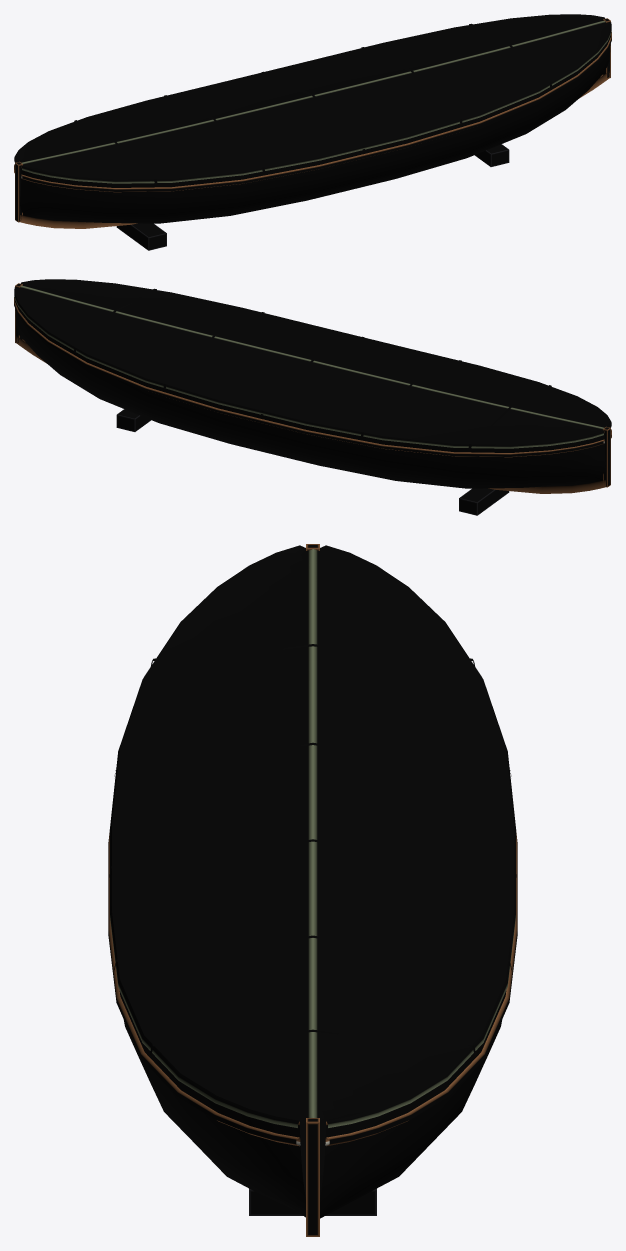
The model's file is stowed_boat.glb.
3 views of the same model, one above another, from view 1: azimuth 30°, elevation 25°; view 2: azimuth 150°, elevation 25°; view 3: azimuth 270°, elevation 25° (orthographic). The views are drawn at different scales.
Visible parts, largest first — view 1: cover, hull, sheer_strake, lashings, chocks, keel_and_stems; view 2: cover, hull, sheer_strake, lashings, chocks, keel_and_stems; view 3: cover, hull, sheer_strake, lashings, keel_and_stems, chocks.
Part boxes in pixels (x1,y1,x2,y2): cover: (14,14,611,183); hull: (20,44,610,223); sheer_strake: (14,32,611,192); lashings: (74,23,551,184); chocks: (116,144,509,250); keel_and_stems: (15,18,610,228); cover: (14,279,611,448); hull: (15,309,605,488); sheer_strake: (14,297,611,457); lashings: (74,288,551,449); chocks: (116,409,509,515); keel_and_stems: (15,283,610,493); cover: (110,545,515,1127); hull: (124,1020,501,1218); sheer_strake: (108,773,517,1146); lashings: (109,644,516,1055); keel_and_stems: (306,544,319,1236); chocks: (249,1188,376,1215).
Size of the model in its own units: 9 by 1.5 by 2.69.
